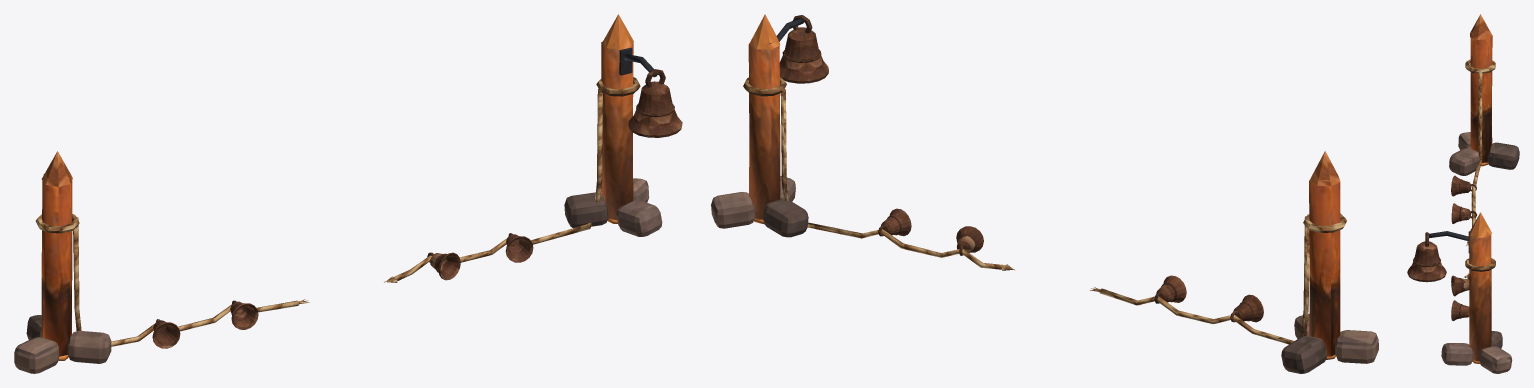
File: op_bell_tripwire.glb
3 renders of one model, left to right at view 1: azimuth 30°, elevation 25°; view 2: azimuth 150°, elevation 25°; view 3: azimuth 270°, elevation 25°, orthographic. The views are drawn at different scales.
Parts seen in each view (by area): view 1: model; view 2: model; view 3: model.
Part boxes in pixels (x1,y1,x2,y2): model: (14, 14, 682, 373); model: (711, 14, 1378, 373); model: (1407, 14, 1519, 373).
Size of the model in its own units: 1.62 by 0.4976 by 0.3363.
Materials: 14 (14 with a texture image).
